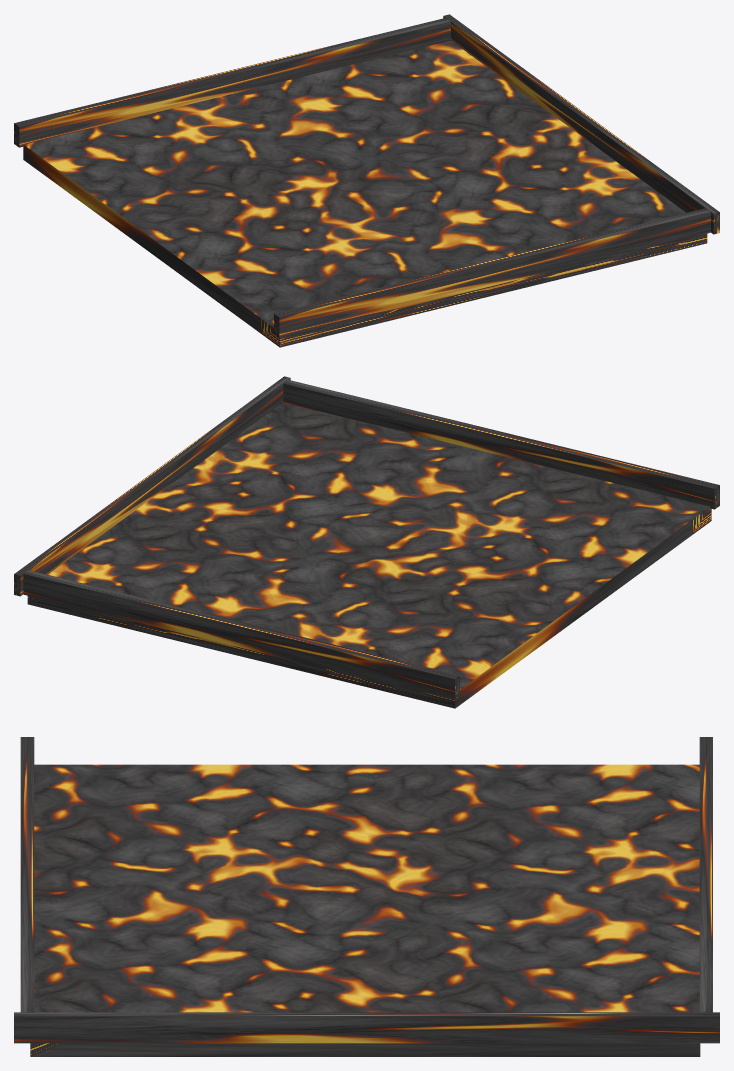
File: mesa2.obj
3 renders of one model, top to bottom at view 1: azimuth 30°, elevation 25°; view 2: azimuth 150°, elevation 25°; view 3: azimuth 270°, elevation 25°, orthographic. The views are drawn at different scales.
Parts seen in each view (by area): view 1: Mesa_style; view 2: Mesa_style; view 3: Mesa_style.
Part boxes in pixels (x1=…): Mesa_style: x1=14, y1=14, x2=719, y2=347; Mesa_style: x1=14, y1=376, x2=719, y2=708; Mesa_style: x1=14, y1=737, x2=719, y2=1056.
Bounding box in the file's own units: 20.2 × 1.5 × 21.58.
1 material, 1 textured.
